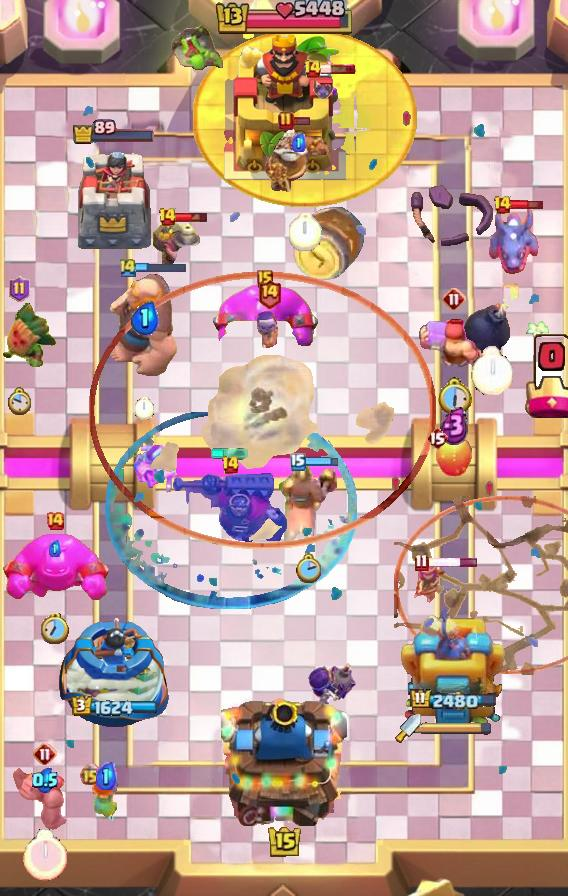baby-dragon: (462, 283, 522, 355)
balloon: (107, 270, 181, 378)
bandit: (152, 220, 204, 272)
bar: (401, 601, 505, 731)
bar-level: (169, 23, 227, 71)
barbarian-barrel: (311, 74, 337, 104)
cannon: (412, 558, 446, 604)
clock: (213, 0, 355, 38)
clone: (0, 531, 112, 603), (209, 284, 321, 350)
dirt: (291, 204, 369, 282)
electro-spirit: (440, 406, 469, 445), (130, 301, 158, 335), (32, 767, 58, 793), (96, 762, 117, 790), (292, 133, 306, 151), (49, 539, 61, 556)
elixir: (23, 829, 67, 881), (471, 345, 513, 394), (436, 376, 472, 415), (289, 213, 322, 251), (41, 613, 69, 644), (295, 553, 321, 583), (7, 388, 31, 417), (134, 396, 154, 420)
elixir-collector: (264, 125, 334, 199)
emote: (136, 262, 188, 274), (426, 556, 479, 567), (508, 198, 543, 211), (320, 63, 356, 75), (304, 456, 340, 468), (174, 211, 209, 223), (292, 116, 312, 126)
freeze: (279, 463, 337, 545)
giant-snowball: (132, 444, 180, 496)
goblin: (253, 310, 285, 352)
goblin-ball: (306, 661, 358, 715)
goblin-barrel: (0, 302, 58, 372)
graveyard: (487, 204, 541, 276)
guard: (394, 497, 568, 676)
hog: (434, 434, 474, 478)
hog-rider: (87, 772, 125, 824)
ice-spirit: (210, 448, 250, 460)
inferno-tower: (170, 471, 290, 547)
king-tower: (222, 31, 346, 181), (221, 690, 347, 826)
king-tower-bar: (421, 721, 493, 735)
mighty-miner: (419, 316, 489, 372)
pad_0: (103, 407, 357, 609)
phoenix-egg: (193, 29, 418, 206)
queen-tower: (54, 614, 173, 730), (71, 144, 157, 255)
royal-ghost: (89, 271, 436, 548)
selected: (72, 119, 156, 145), (410, 688, 499, 712), (70, 695, 157, 717)
text: (257, 279, 282, 309), (442, 287, 466, 311), (33, 742, 57, 766), (9, 276, 30, 302), (79, 762, 102, 785), (426, 426, 448, 450), (118, 257, 138, 279), (45, 511, 65, 531), (303, 59, 322, 79), (493, 195, 512, 215), (159, 207, 178, 227), (221, 455, 240, 475), (278, 111, 294, 131), (257, 270, 273, 288), (290, 453, 306, 471), (415, 553, 430, 571)
valkyrie-evolution: (10, 765, 80, 831)
